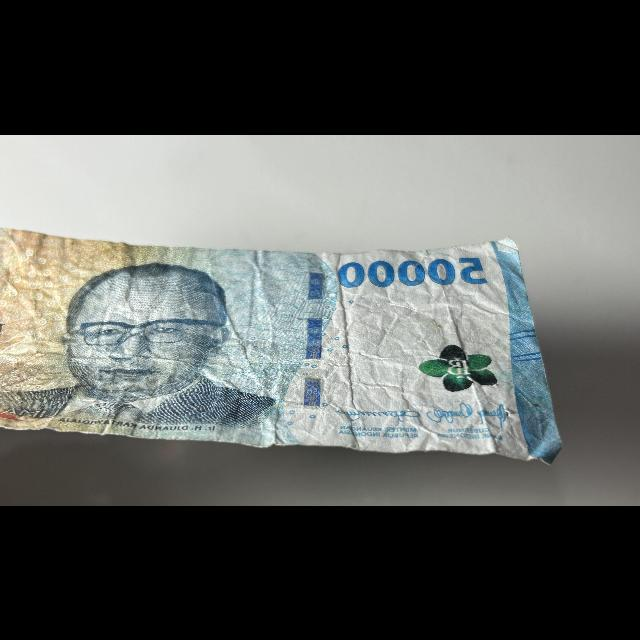Palsu-50k: (0, 224, 576, 469)
Tinta-Palsu-50k: (415, 340, 501, 395)
